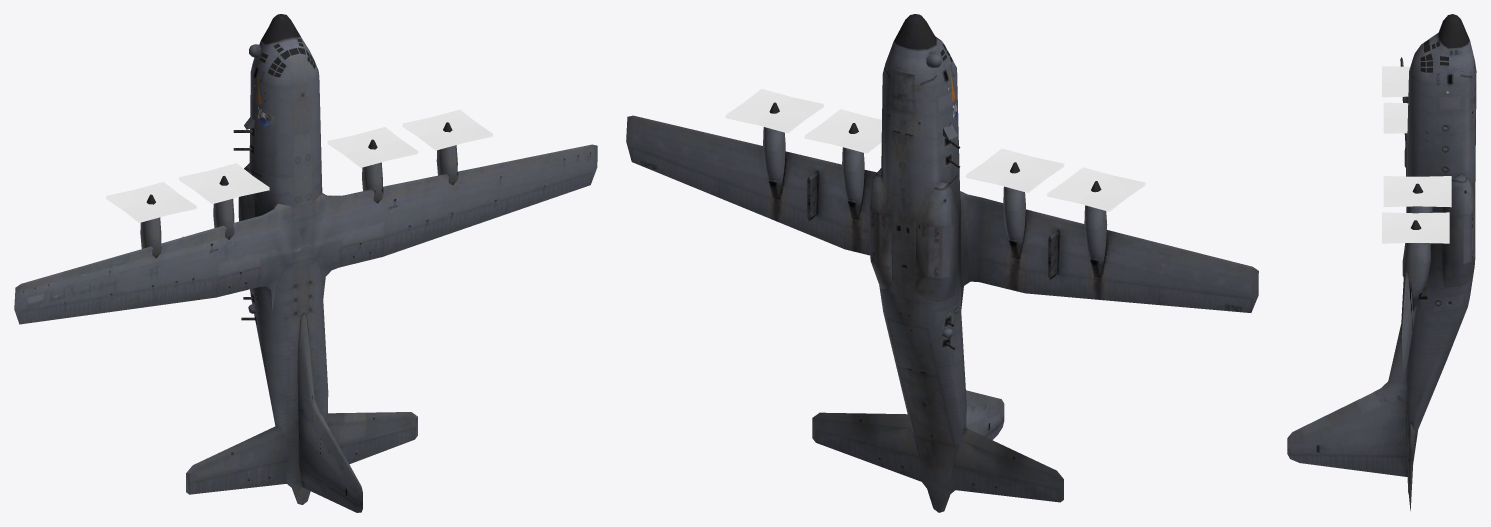
File: AC-130_Hercules.obj
3 views of the same model, side by side, from view 1: azimuth 30°, elevation 25°; view 2: azimuth 150°, elevation 25°; view 3: azimuth 270°, elevation 25° (orthographic). The views are drawn at different scales.
Parts seen in each view (by area): view 1: LOD0, ROT_PropelerR02, ROT_PropelerL02, ROT_PropelerL01, ROT_PropelerR01; view 2: LOD0, ROT_PropelerR01, ROT_PropelerL01, ROT_PropelerL02, ROT_PropelerR02; view 3: LOD0, ROT_PropelerR02, ROT_PropelerR01, ROT_PropelerL01, ROT_PropelerL02.
Boxes of the visible parts, <box> form: LOD0: <box>14,14,597,512</box>; ROT_PropelerR02: <box>327,127,418,167</box>; ROT_PropelerL02: <box>179,163,269,204</box>; ROT_PropelerL01: <box>106,182,196,222</box>; ROT_PropelerR01: <box>402,109,492,150</box>; LOD0: <box>626,14,1258,512</box>; ROT_PropelerR01: <box>725,89,824,133</box>; ROT_PropelerL01: <box>1047,167,1145,211</box>; ROT_PropelerL02: <box>966,148,1064,192</box>; ROT_PropelerR02: <box>804,109,881,153</box>; LOD0: <box>1287,14,1476,510</box>; ROT_PropelerR02: <box>1383,176,1451,207</box>; ROT_PropelerR01: <box>1382,212,1449,243</box>; ROT_PropelerL01: <box>1382,66,1410,97</box>; ROT_PropelerL02: <box>1383,102,1408,133</box>.
Bounding box in the file's own units: 39.7 × 30.9 × 11.02.
Materials: 2 (2 with a texture image).
